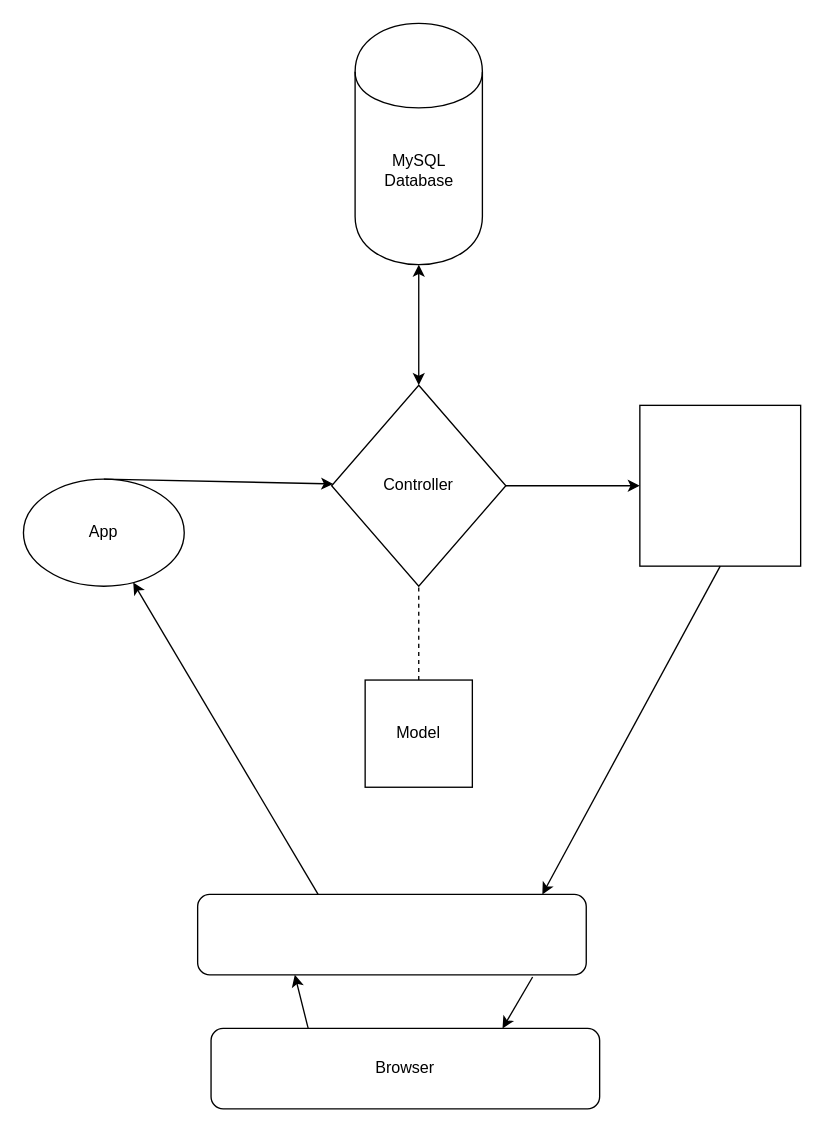
This 824x1132 diagram has some shape labels left out. The shapes that lost their labels are listed below. From the top down, each one's centre as x and y in pixels, then its label:
At point (720, 485): "View".
At point (391, 934): "Web Server".
